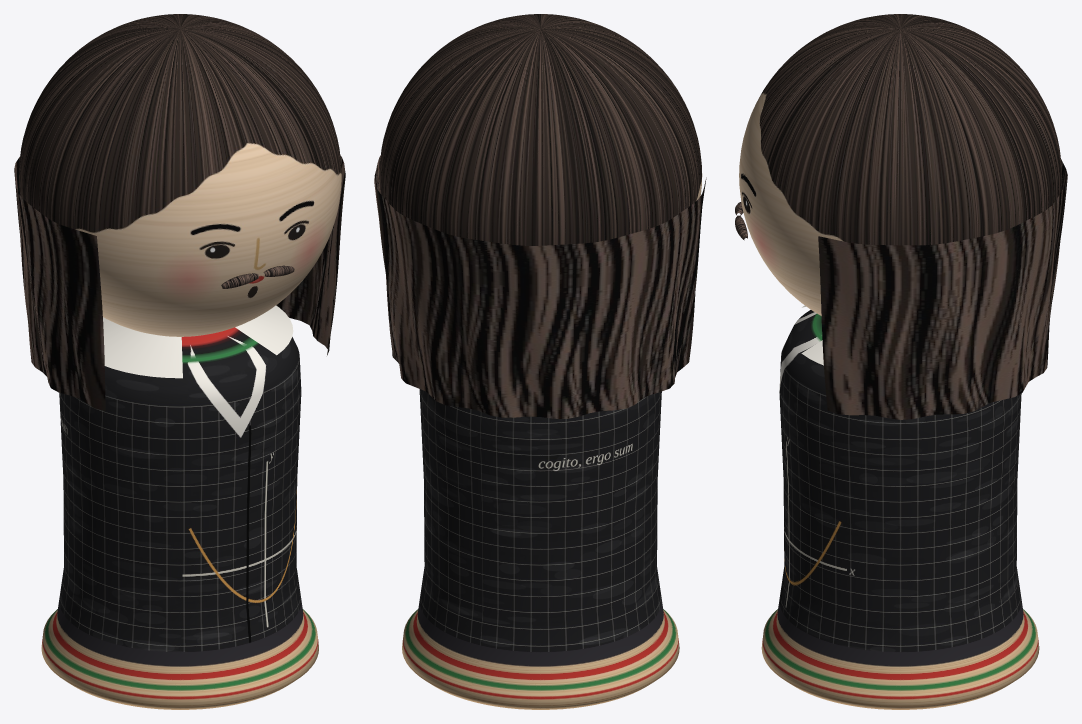
File: descartes.glb
The picture shows the model from 3 angles, left to right: view 1: azimuth 30°, elevation 25°; view 2: azimuth 150°, elevation 25°; view 3: azimuth 270°, elevation 25°; orthographic projection.
Visible parts, largest first — view 1: body, head, René Descartes; view 2: body, head, René Descartes; view 3: body, head, René Descartes.
Part boxes in pixels (x1,y1,x2,y2): body: (41,327,318,709); head: (19,14,341,336); René Descartes: (14,155,345,410); body: (402,389,679,709); head: (379,14,702,245); René Descartes: (374,156,706,418); body: (761,310,1039,709); head: (739,14,1061,315); René Descartes: (735,159,1067,419).
Bounding box in the file's own units: 0.0769 × 0.1605 × 0.0773.
Materials: 6 (4 with a texture image).
